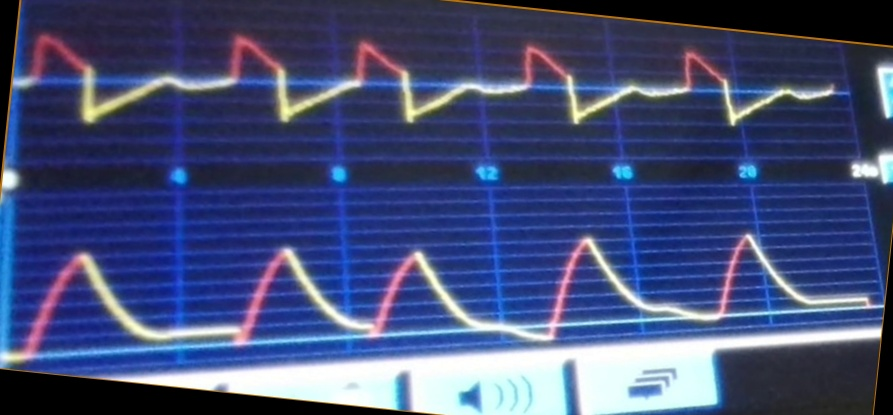Ineffective_effort Flow: (19, 29, 836, 141)
Ineffective_effort Volume: (12, 222, 866, 349)
